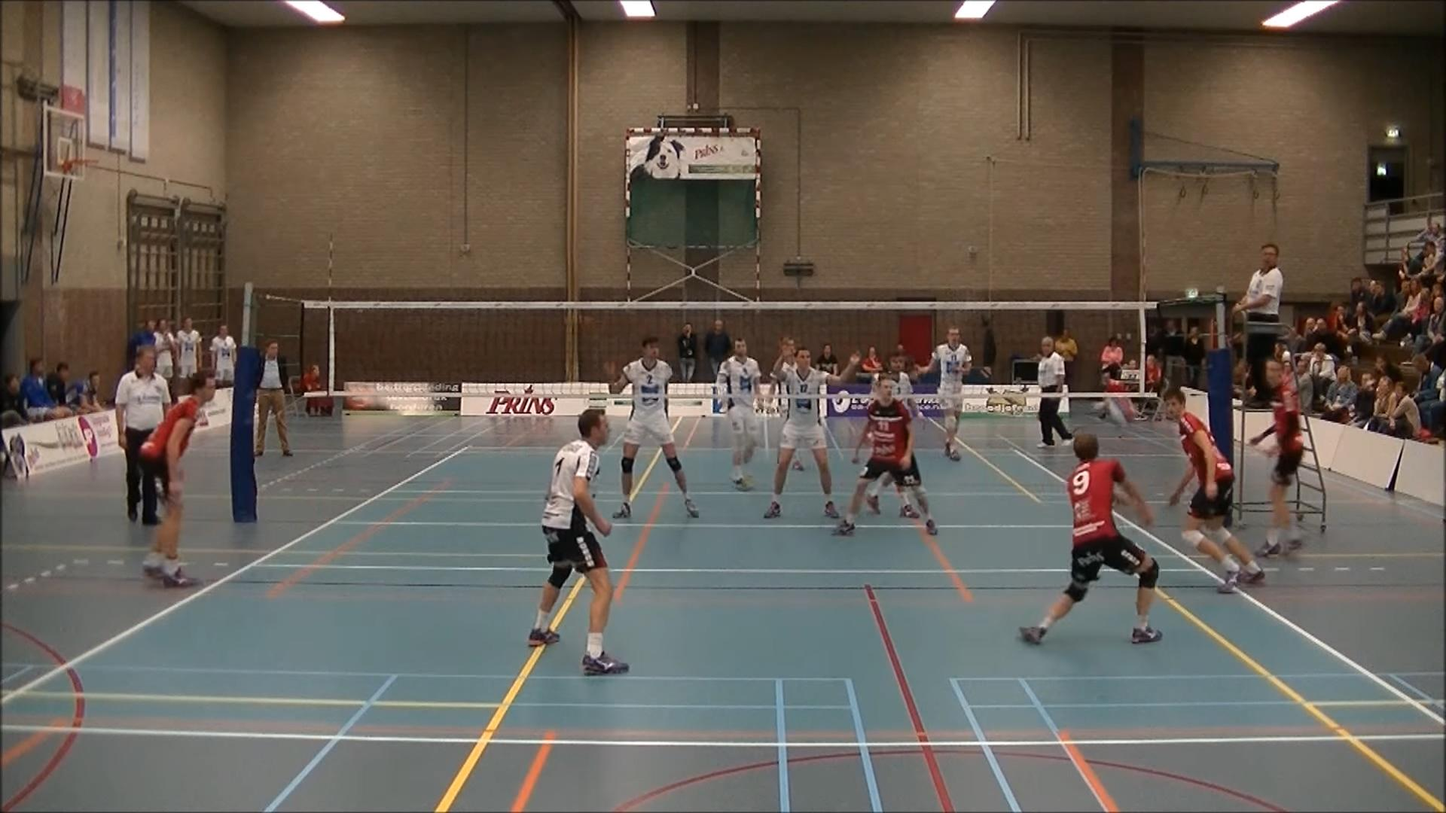Player: (528, 409, 628, 674), (1165, 388, 1264, 592), (607, 336, 698, 518), (764, 347, 860, 518), (139, 373, 215, 587), (834, 378, 937, 535), (1249, 360, 1304, 556), (917, 327, 971, 461), (716, 339, 761, 490), (865, 473, 919, 518), (779, 336, 795, 368)
Receive: (1017, 433, 1165, 653)
ball: (1106, 393, 1136, 428)
